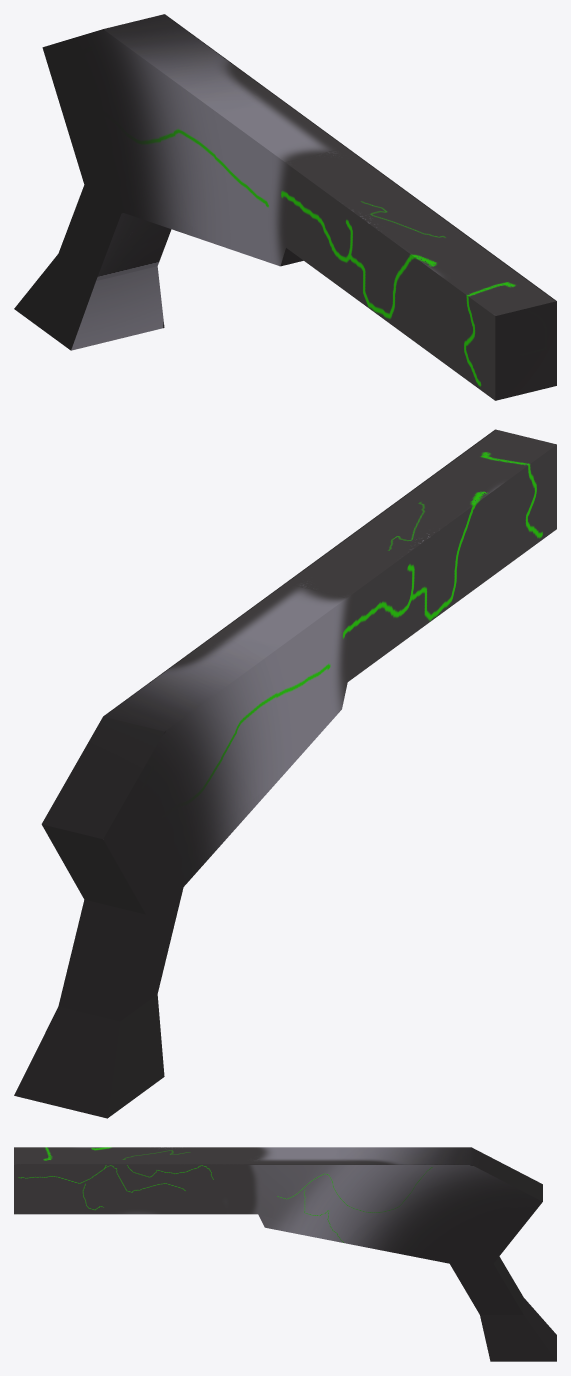
File: pistola.glb
3 views of the same model, one above another, from view 1: azimuth 30°, elevation 25°; view 2: azimuth 150°, elevation 25°; view 3: azimuth 270°, elevation 25° (orthographic). The views are drawn at different scales.
Visible parts, largest first — view 1: Cubo; view 2: Cubo; view 3: Cubo.
Boxes of the visible parts, <box> form: Cubo: <box>14,14,556,400</box>; Cubo: <box>14,429,556,1118</box>; Cubo: <box>14,1147,556,1361</box>.
Size of the model in its own units: 1.22 by 4.12 by 10.53.
1 material, 1 textured.
